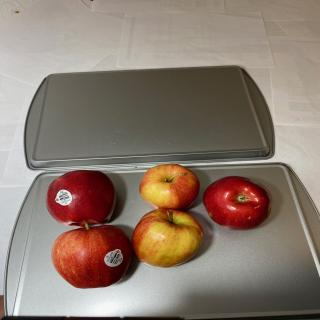Apple: (51, 221, 132, 289), (131, 208, 204, 268), (46, 170, 116, 227), (203, 176, 273, 230), (139, 163, 200, 210)
